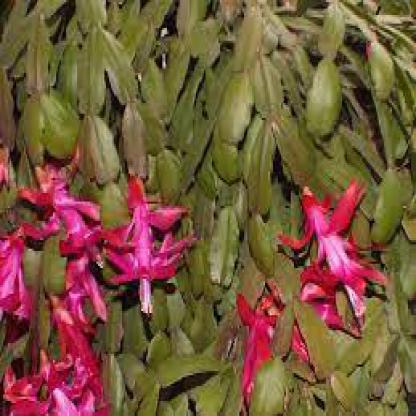Aglonema: (45, 68, 393, 277), (223, 306, 416, 416)
